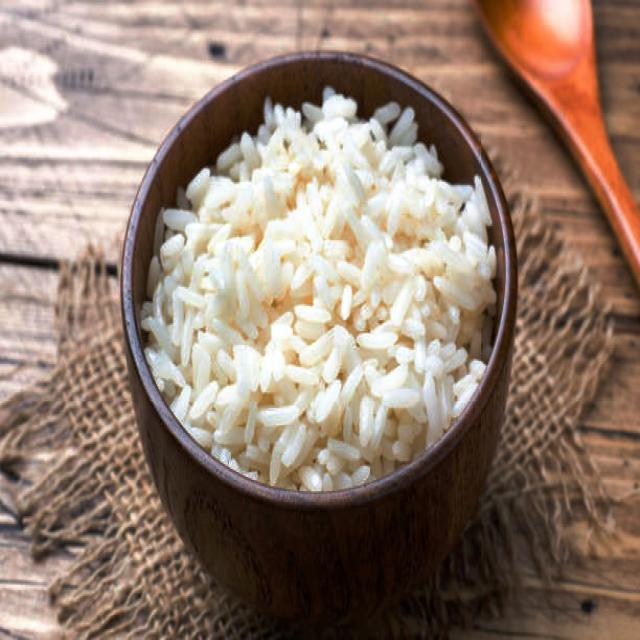rice: (140, 86, 497, 494)
